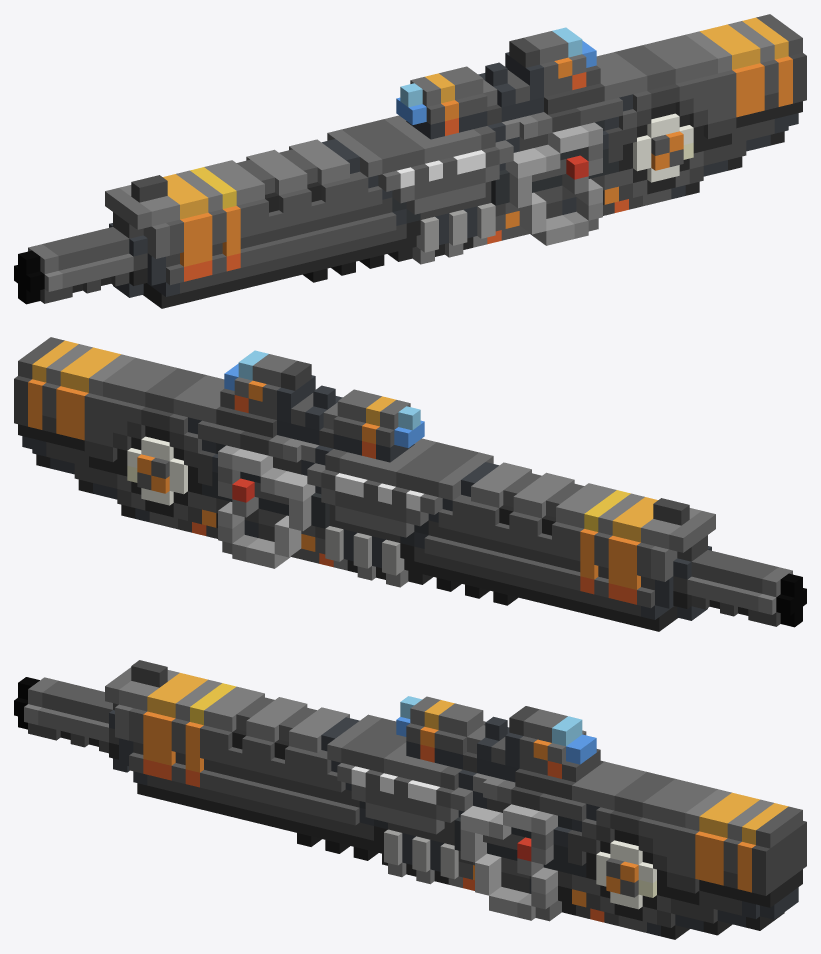
File: Blaster_6WO_Astauand.obj
3 renders of one model, top to bottom at view 1: azimuth 30°, elevation 25°; view 2: azimuth 150°, elevation 25°; view 3: azimuth 330°, elevation 25°, orthographic.
Size of the model in its own units: 54 by 12 by 7.
